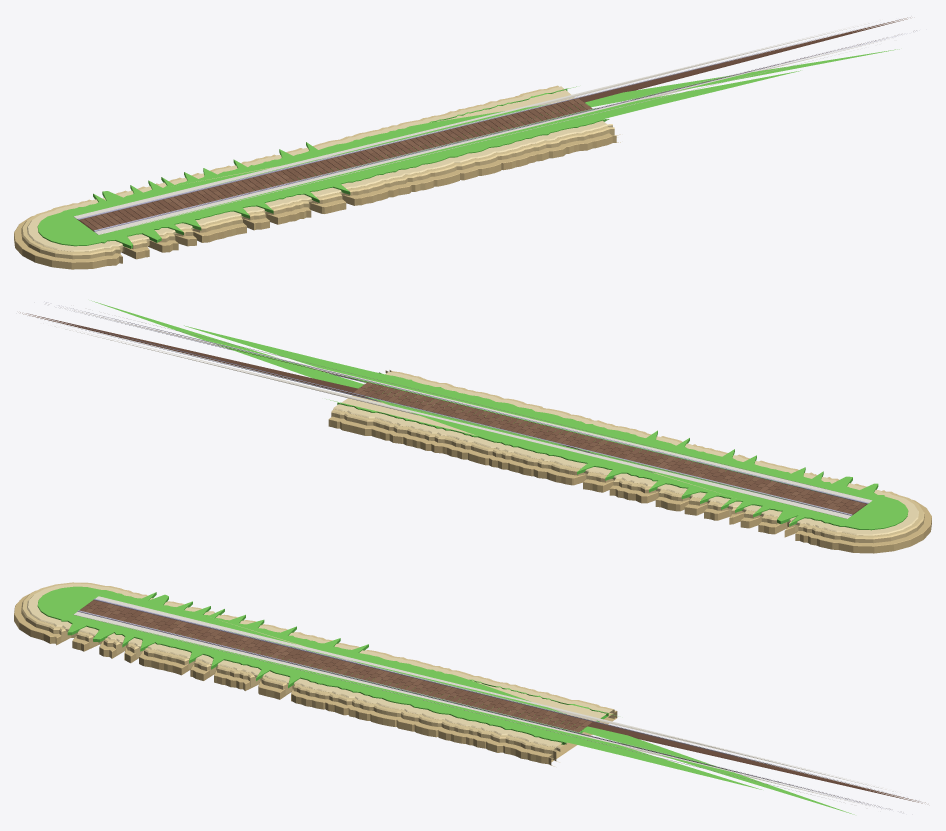
Rendered from Ground_Main_0.glb.
The picture shows the model from 3 angles, top to bottom: view 1: azimuth 30°, elevation 25°; view 2: azimuth 150°, elevation 25°; view 3: azimuth 330°, elevation 25°; orthographic projection.
Visible parts, largest first — view 1: Ground_Main_0; view 2: Ground_Main_0; view 3: Ground_Main_0.
Boxes of the visible parts, box(x1,y1,x2,y2) form: Ground_Main_0: box(14, 17, 916, 269); Ground_Main_0: box(20, 300, 931, 553); Ground_Main_0: box(14, 582, 925, 814).
Bounding box in the file's own units: 481 × 7.95 × 61.55.
Materials: 1 (1 with a texture image).
